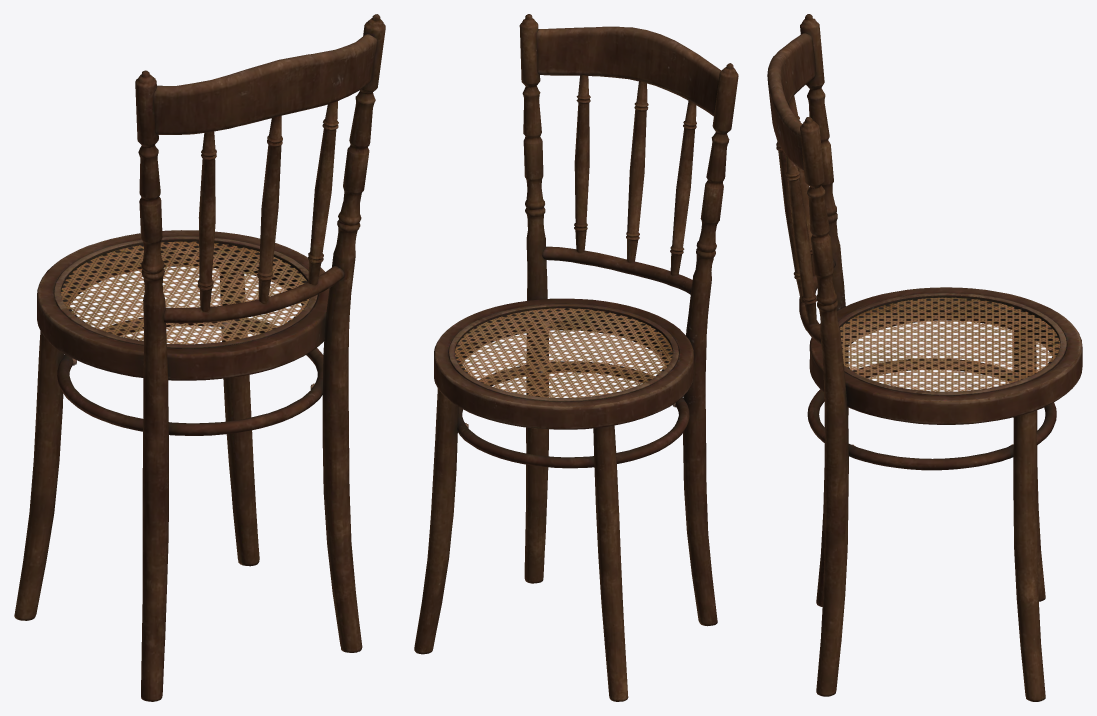
Rendered from chair-transformed.glb.
The picture shows the model from 3 angles, left to right: view 1: azimuth 30°, elevation 25°; view 2: azimuth 150°, elevation 25°; view 3: azimuth 270°, elevation 25°; orthographic projection. The views are drawn at different scales.
Visible parts, largest first — view 1: Obod_sidenie__0; view 2: Obod_sidenie__0; view 3: Obod_sidenie__0.
Boxes of the visible parts, x1,y1,x2,y2 form: Obod_sidenie__0: (14,14,385,701); Obod_sidenie__0: (414,14,738,701); Obod_sidenie__0: (767,14,1082,701).
Size of the model in its own units: 0.4235 by 0.996 by 0.4887.
1 material, 1 textured.
